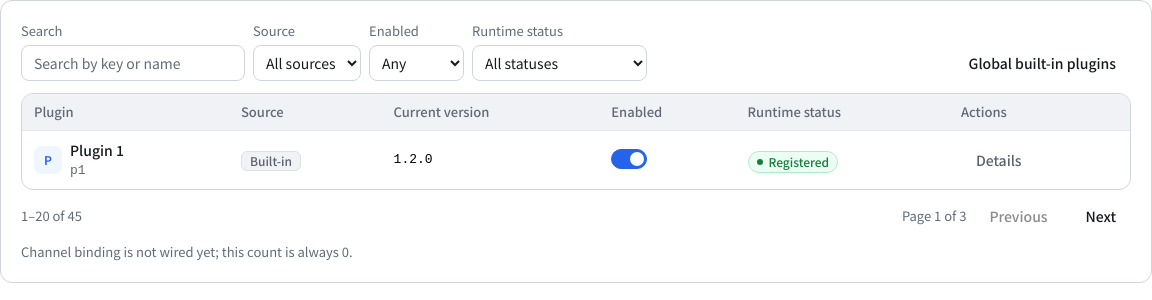
Test: installed tab (F-08-28) › paginates with an offset summary
Expected: the text "1–20 of 45" is shown, [21, 206, 82, 226]
Click the button "Next": (1101, 216) [1070, 198, 1131, 234]
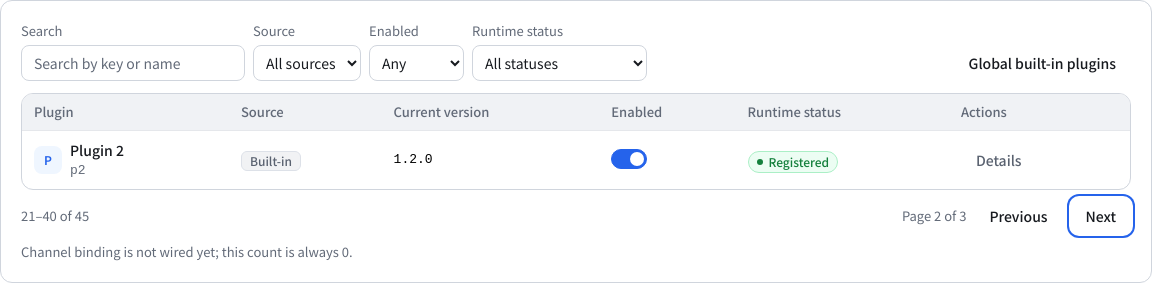
Now the text "Page 2 of 3" is shown, box [902, 206, 966, 226]
Now the text "21–40 of 45" is shown, box [21, 206, 89, 226]
